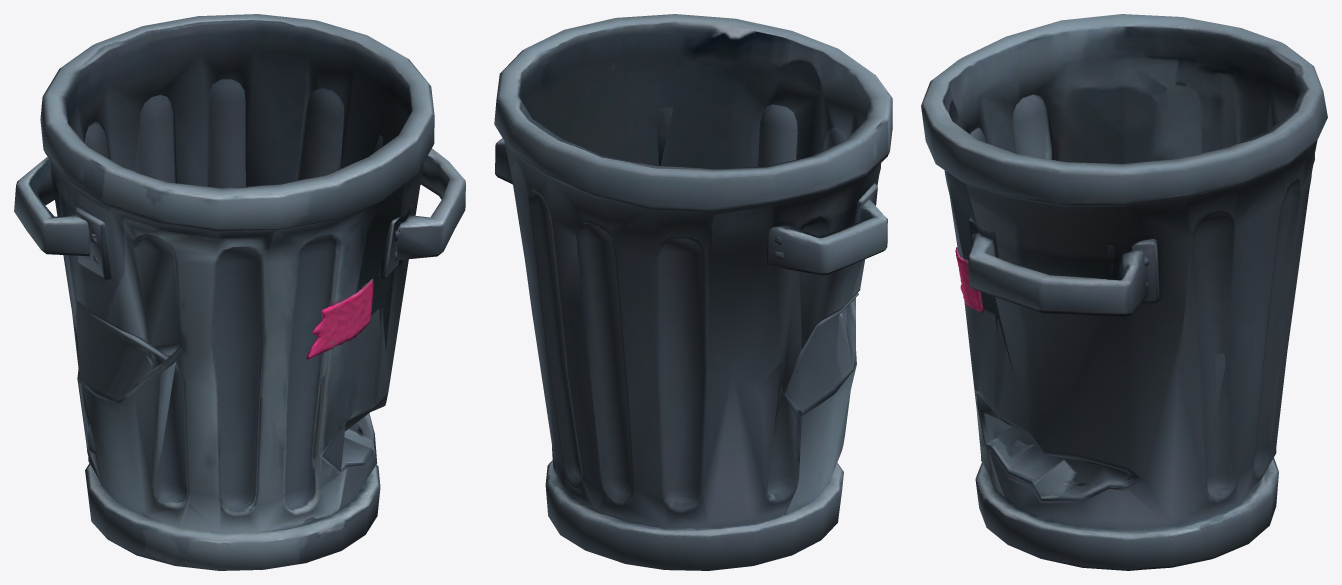
File: trash-can.glb
The picture shows the model from 3 angles, left to right: view 1: azimuth 30°, elevation 25°; view 2: azimuth 150°, elevation 25°; view 3: azimuth 270°, elevation 25°; orthographic projection.
Parts seen in each view (by area): view 1: tripo_node_d89d370e-6aee-4d14-8aee-827edf046eef; view 2: tripo_node_d89d370e-6aee-4d14-8aee-827edf046eef; view 3: tripo_node_d89d370e-6aee-4d14-8aee-827edf046eef.
Part boxes in pixels (bbox=[...]): tripo_node_d89d370e-6aee-4d14-8aee-827edf046eef: bbox=[14, 14, 465, 570]; tripo_node_d89d370e-6aee-4d14-8aee-827edf046eef: bbox=[494, 14, 892, 570]; tripo_node_d89d370e-6aee-4d14-8aee-827edf046eef: bbox=[921, 14, 1327, 570].
Bounding box in the file's own units: 0.9669 × 0.998 × 0.8613.
Materials: 1 (1 with a texture image).
